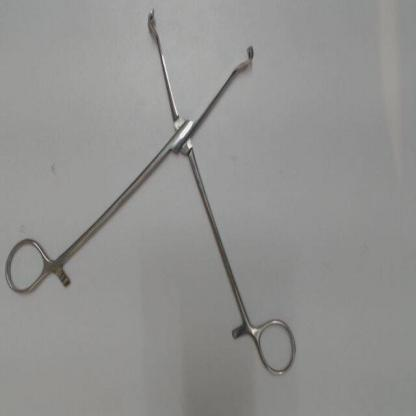8 Babcock Tissue Forceps: (2, 2, 300, 381)
